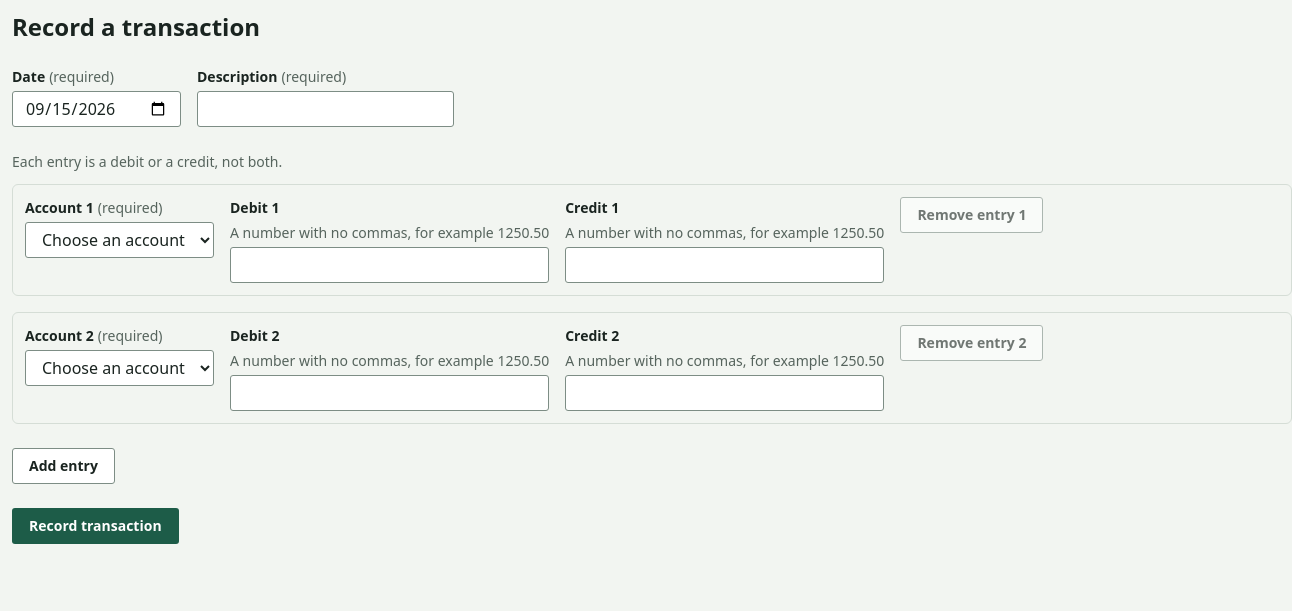
Scenario: RecordTransactionPage submission › Given_a_filled_form_When_submitted_Then_it_posts_the_mapped_entries_with_each_accounts_own_currency
This screenshot has width=1292, height=611.
Type "Rent" into the field labelled "Description".
click(326, 109); type("Rent")  # box top-left (197, 91), bottom-right (454, 127)
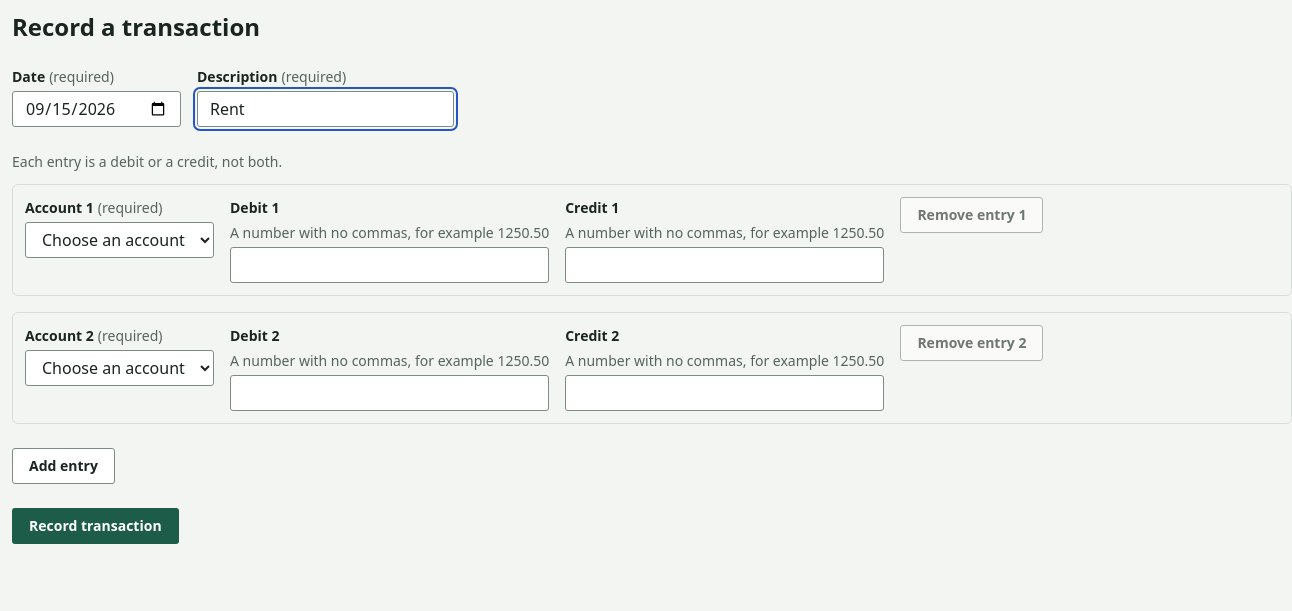
Select "Checking (ILS)" in the dropdown labelled "Account 1" at (120, 240), box top-left (25, 222), bottom-right (214, 258)
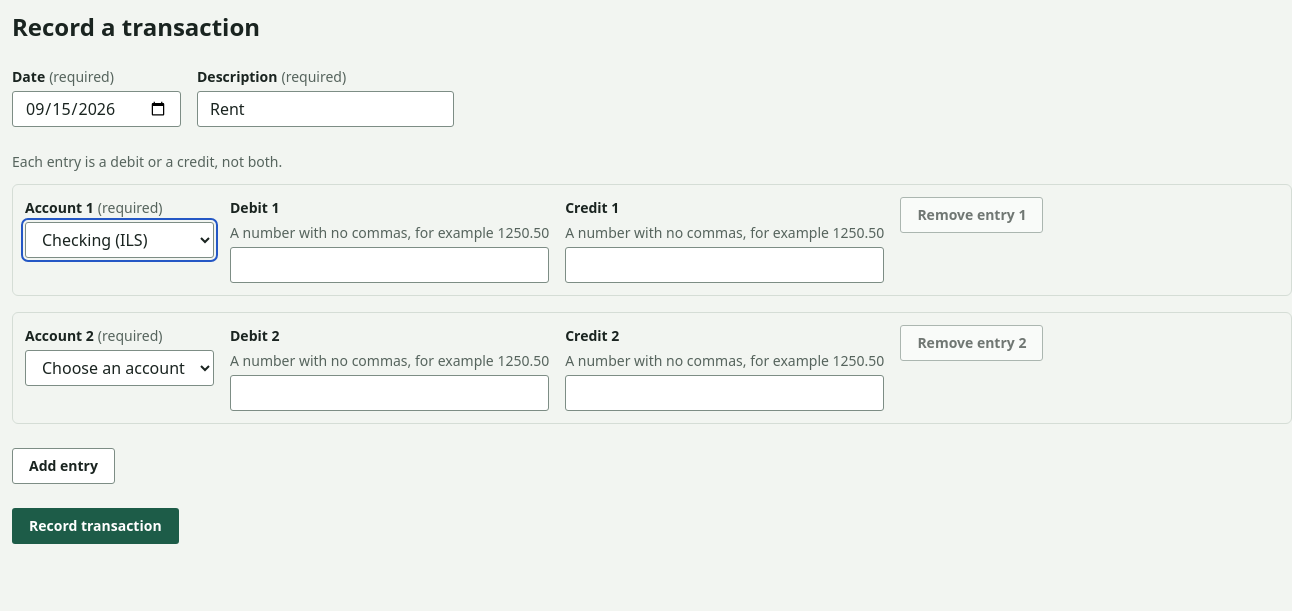
Select "US savings (USD)" in the dropdown labelled "Account 2" at (120, 368), box top-left (25, 350), bottom-right (214, 386)
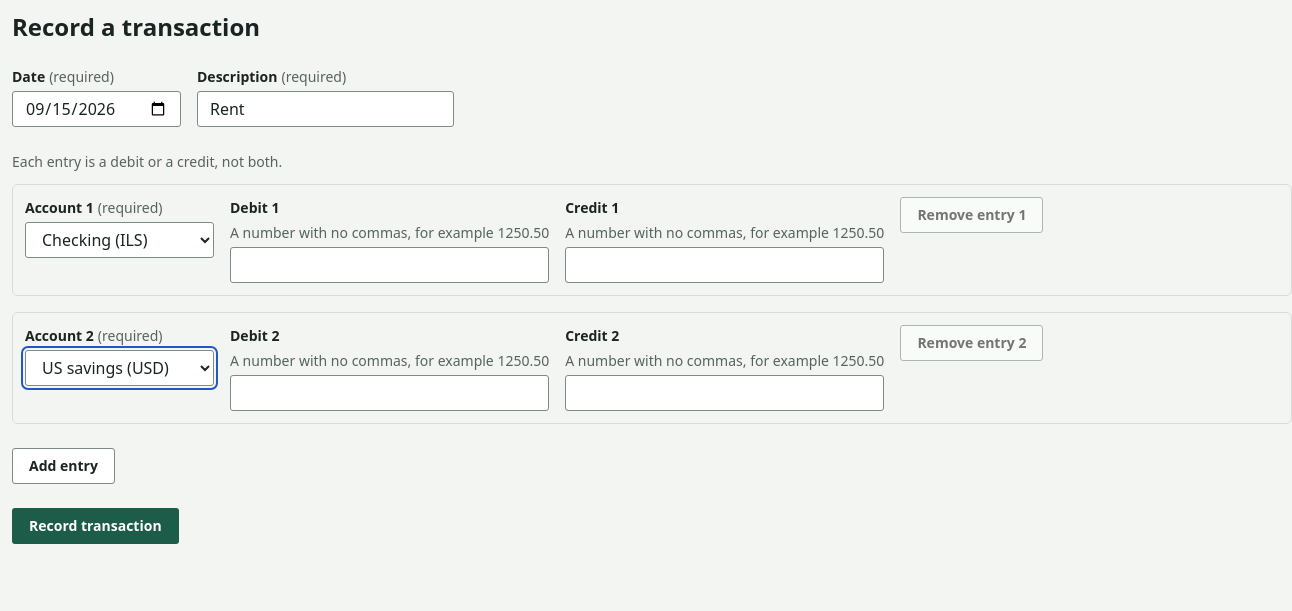
Type "250.00" into the field labelled "Credit 1".
click(725, 265); type("250.00")  # box top-left (565, 247), bottom-right (884, 283)
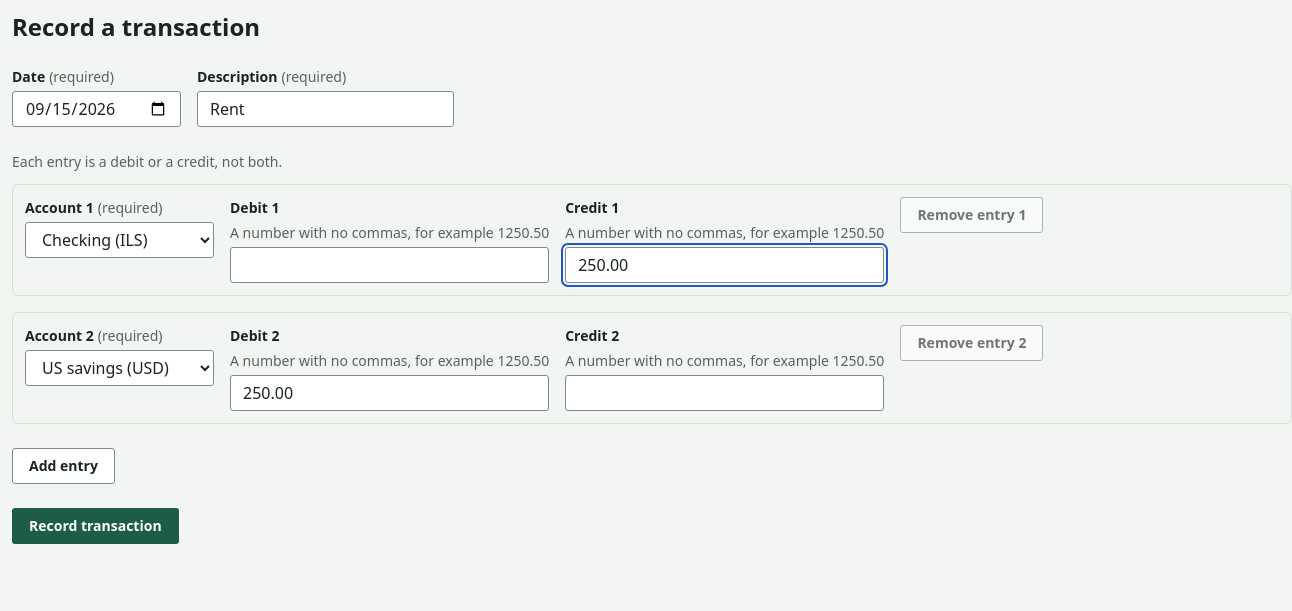
Click the button "Record transaction".
click(95, 526)  # box top-left (12, 508), bottom-right (179, 544)
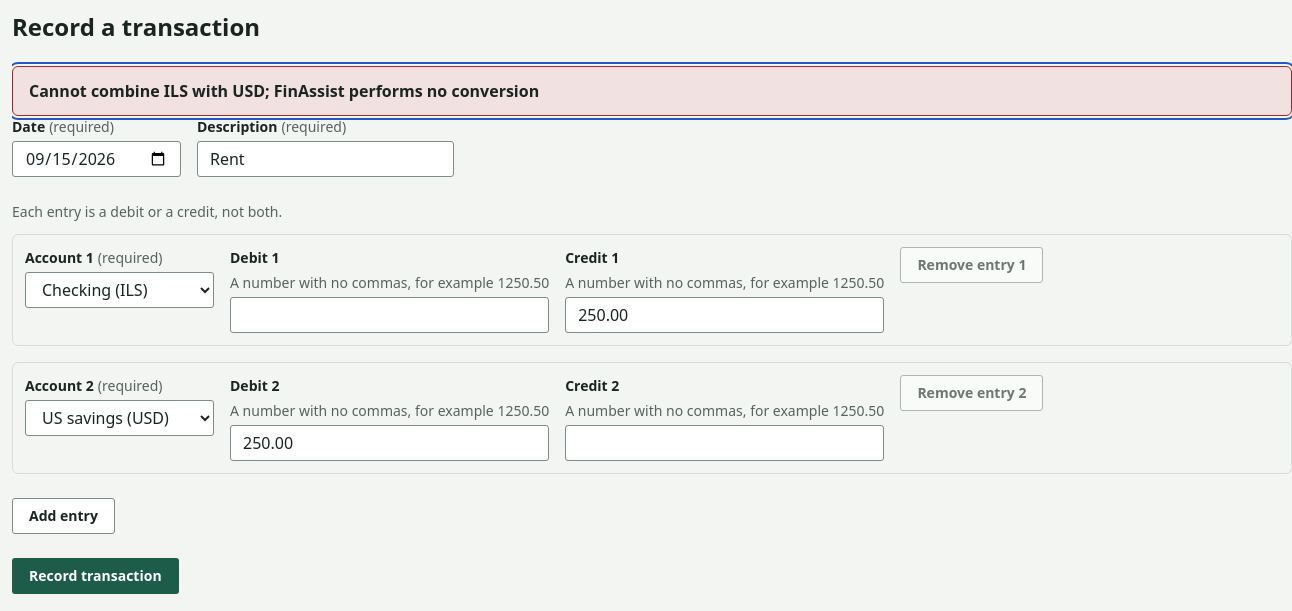
Now the message "Cannot combine ILS with USD; FinAssist performs no conversion" is shown, box top-left (12, 66), bottom-right (1291, 116)
